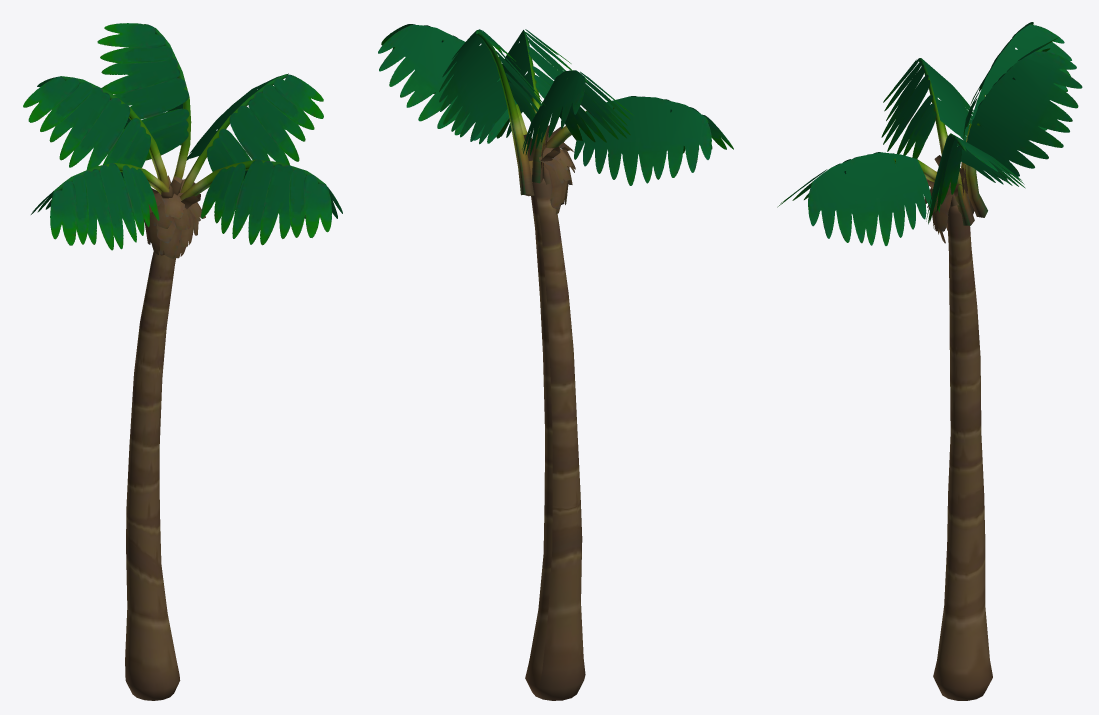
The model's file is palm.glb.
3 renders of one model, left to right at view 1: azimuth 30°, elevation 25°; view 2: azimuth 150°, elevation 25°; view 3: azimuth 270°, elevation 25°, orthographic. The views are drawn at different scales.
Bounding box in the file's own units: 27.42 × 54.57 × 23.03.
Materials: 2 (2 with a texture image).
